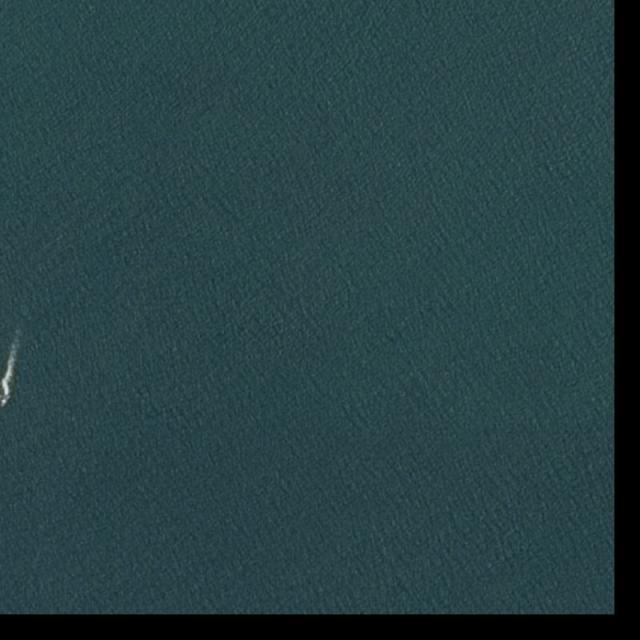ship: (0, 397, 9, 408)
